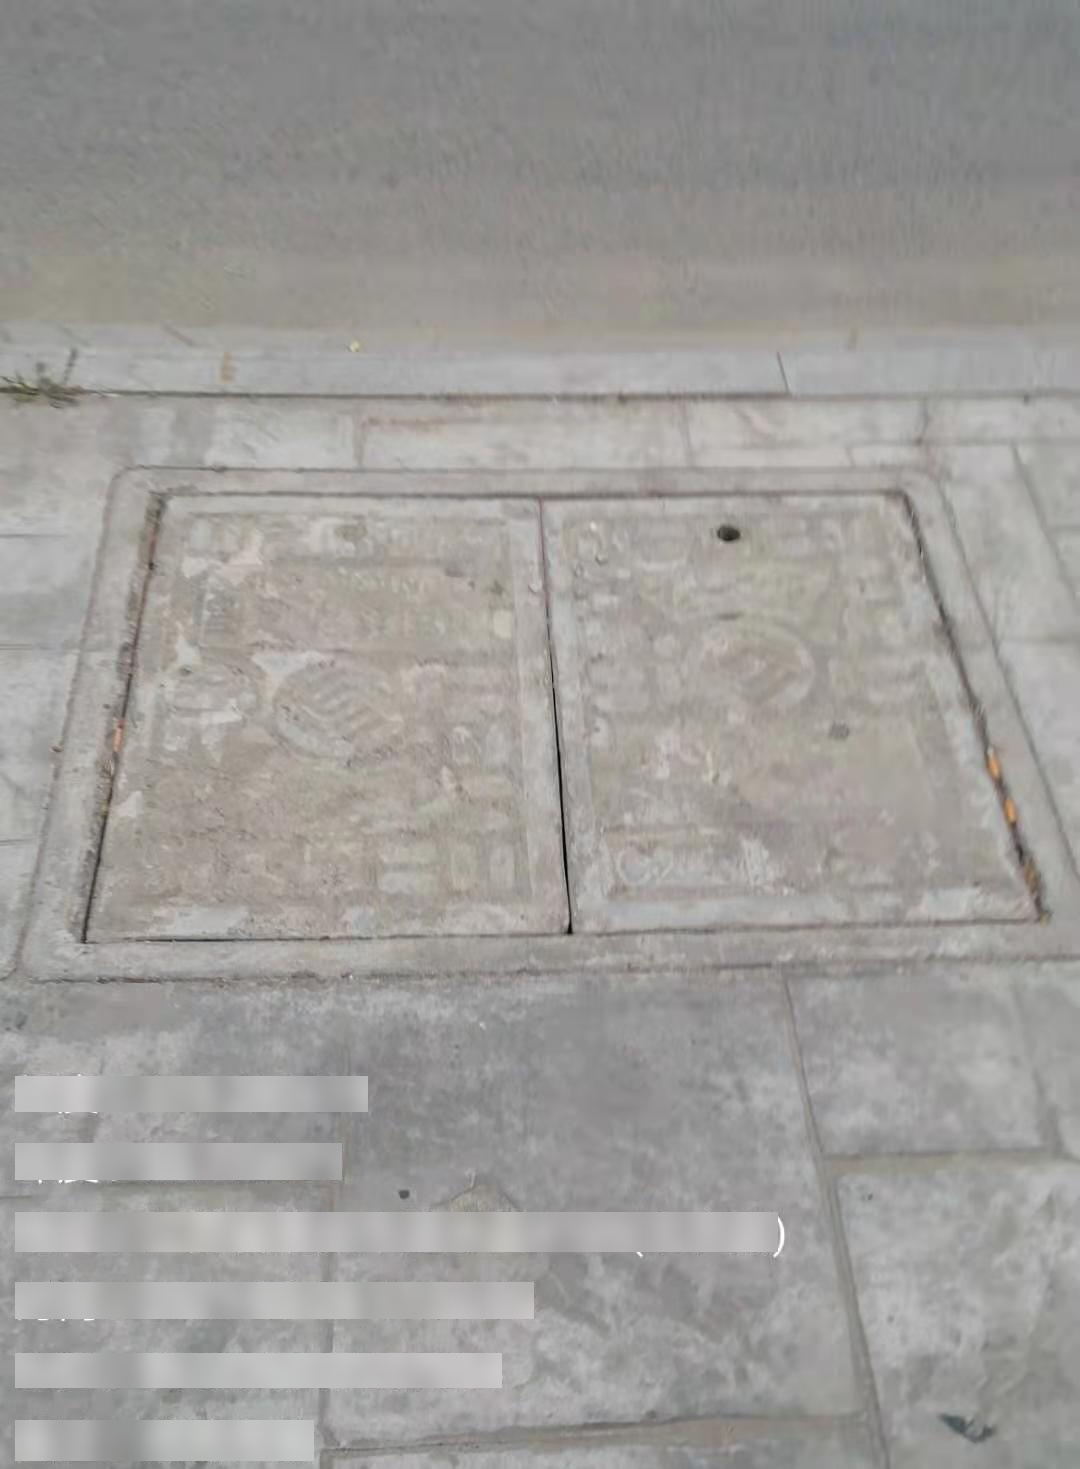well: (16, 448, 1075, 987)
